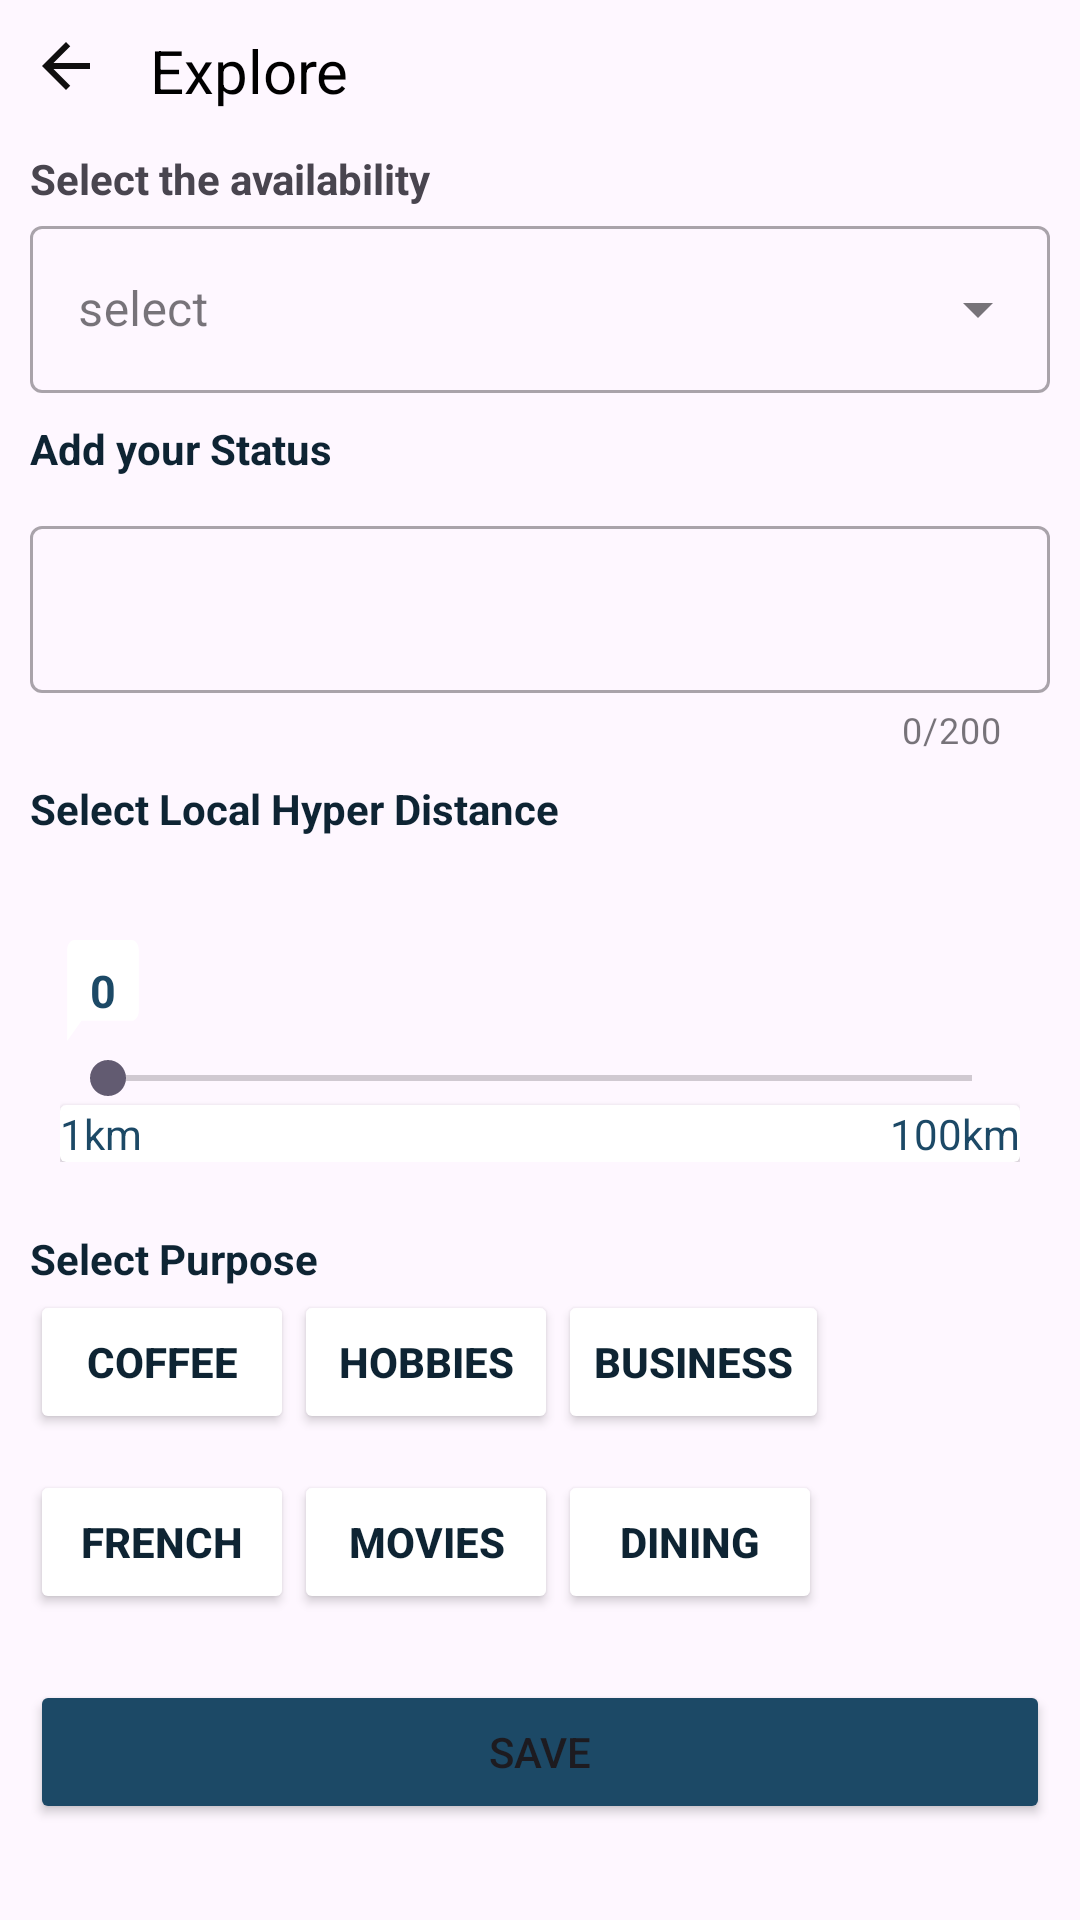

Icons on this 1080 x 1920 Android screen, each with its box as (x1, y1, x2, y2):
arrow back: (42, 42, 90, 90)
